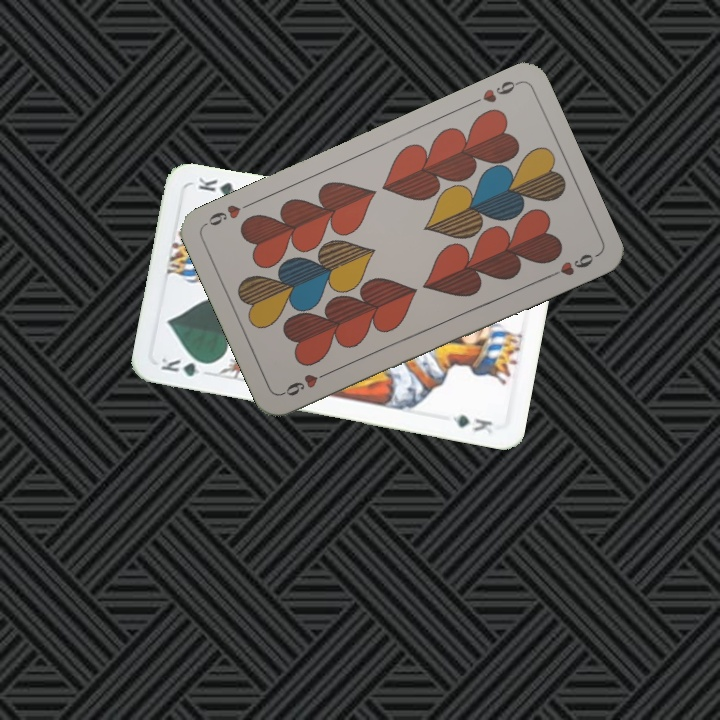GK: (157, 353, 215, 379)
H9: (278, 366, 334, 399), (466, 76, 522, 108)
